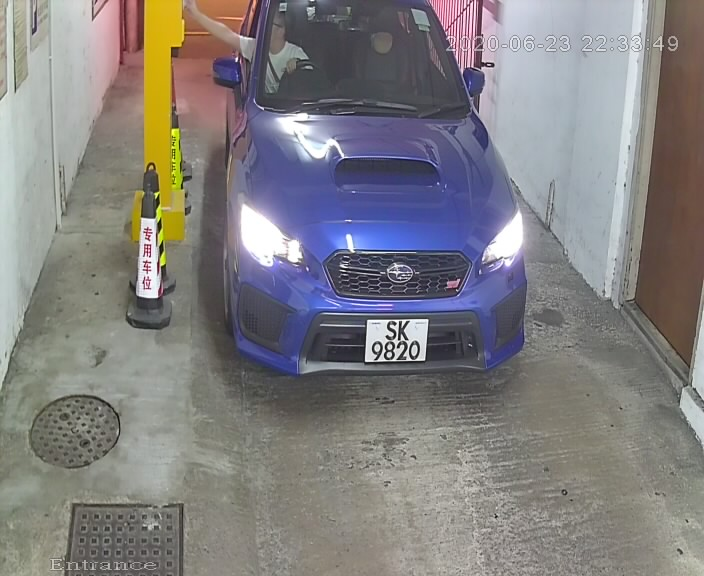privatecar: (195, 1, 541, 399)
